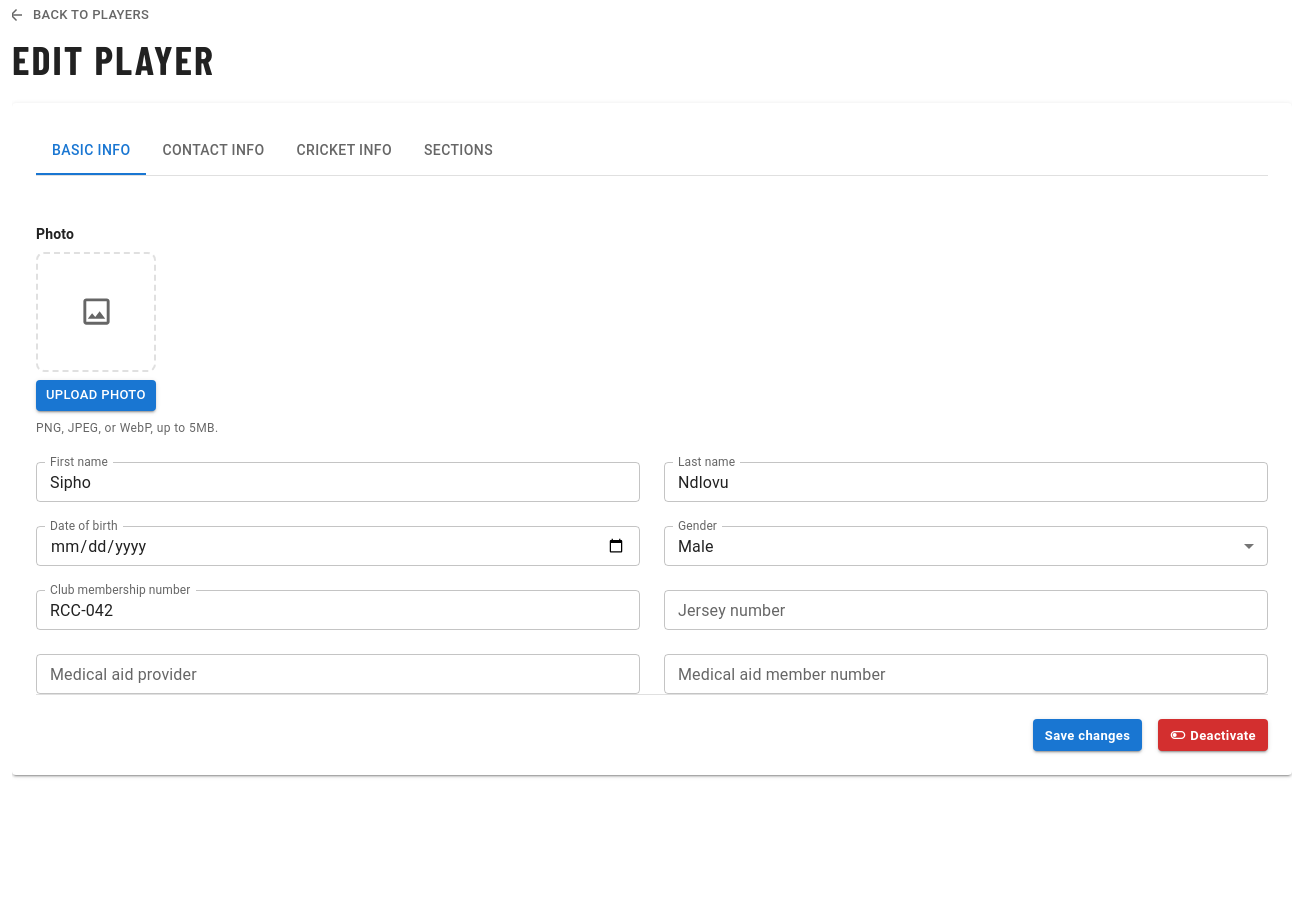
PlayerFormPage › edit mode › asks for the date of birth when the player has none, and blocks saving without it
The image size is (1292, 900).
Expected: the date field labelled "Date of birth" is empty, [36,526,640,566]
What coordinates should you click on to do the following:
click the button "Save changes"
I would click on:
 (1088, 735)
Its box is [1033,719,1142,751].
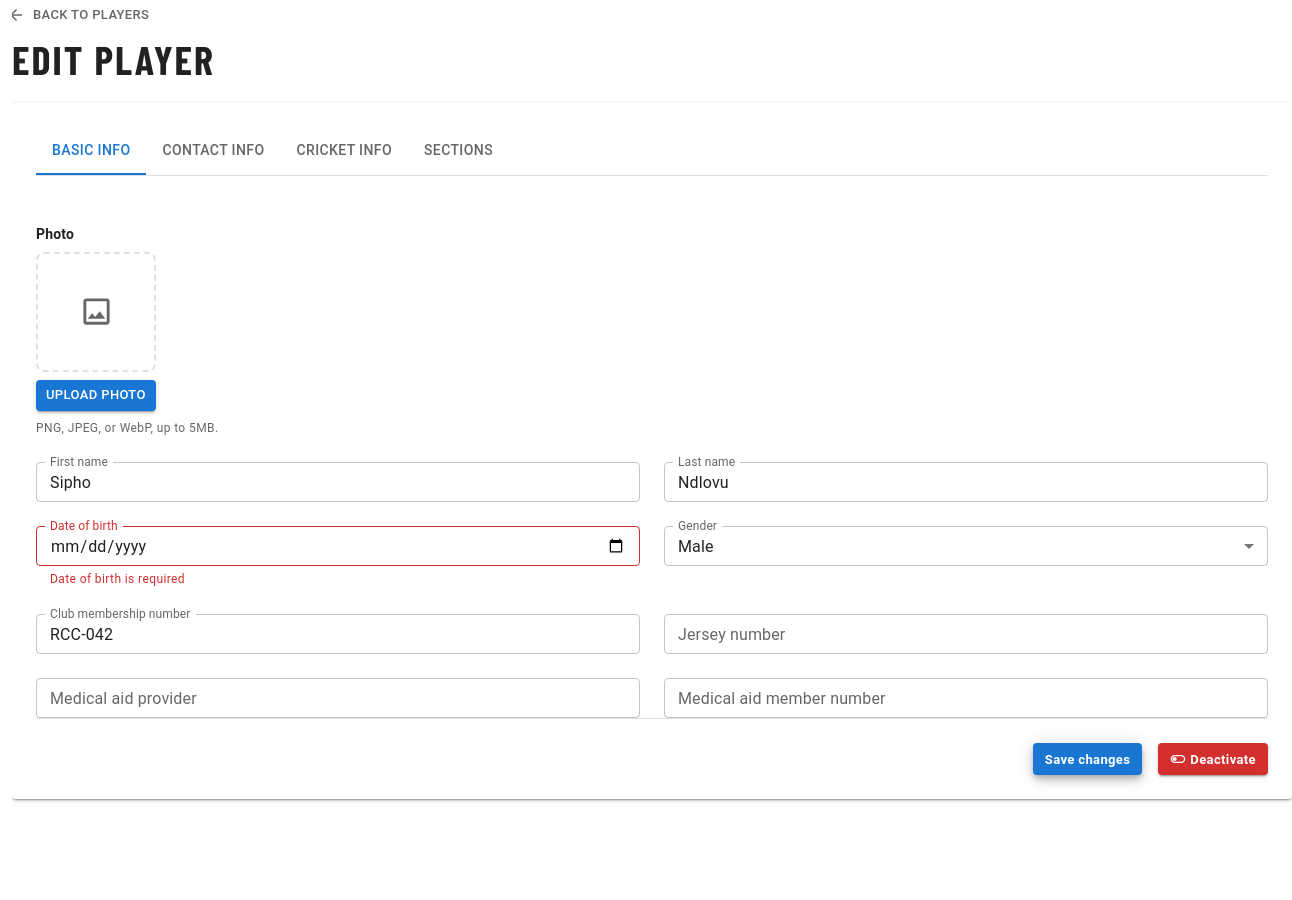
Expected: the text "Date of birth is required" is shown, [50,572,185,586]
